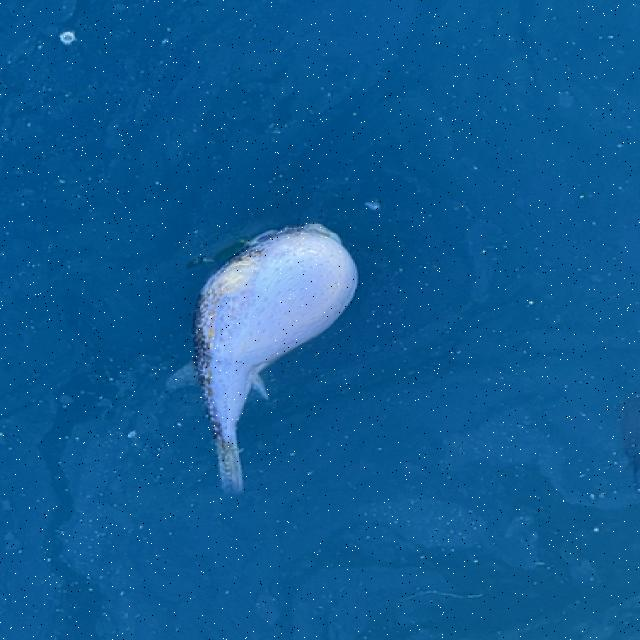Balik: (195, 224, 356, 492)
